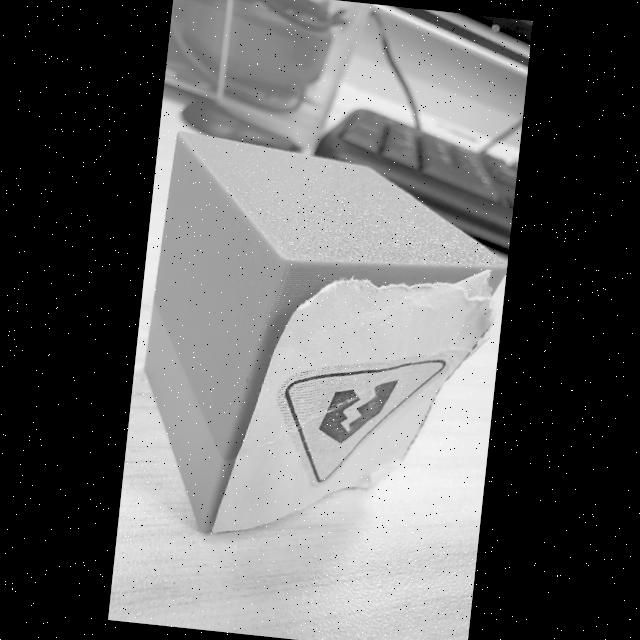Earthquake: (276, 359, 445, 482)
